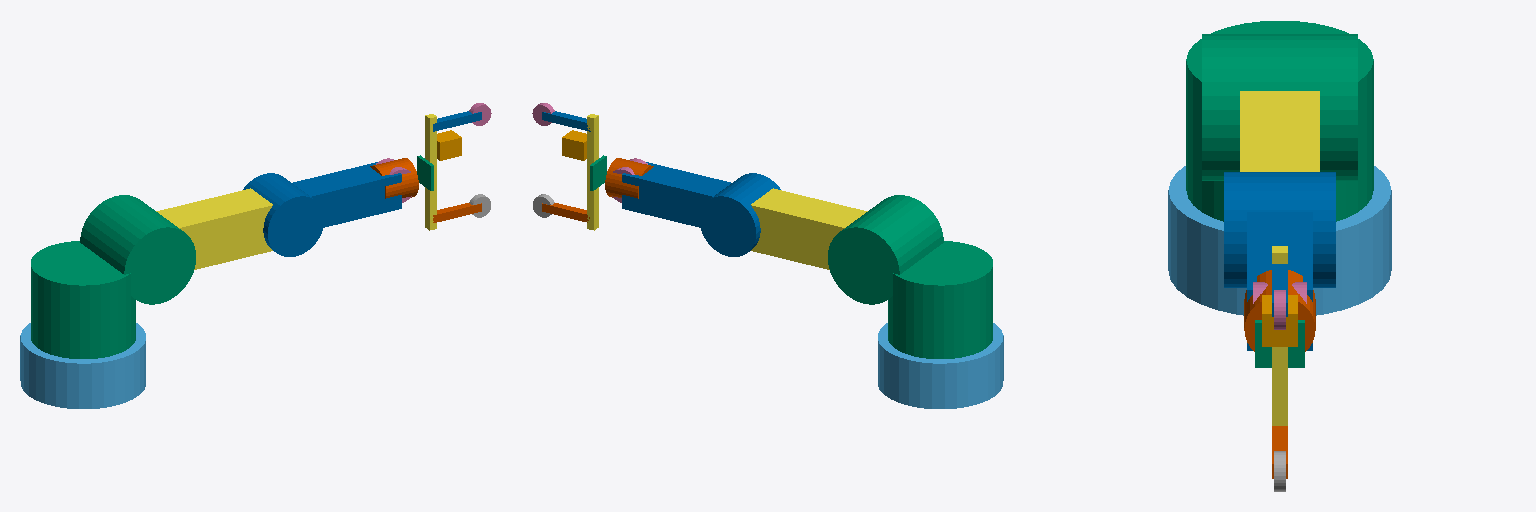
robot.urdf — kr500_r2830_mt:
<?xml version="1.0"?>
<robot name="kr500_r2830_mt" xmlns:tesseract="https://github.com/tesseract-robotics/tesseract" tesseract:make_convex="true">
  <link name="world"/>
  <joint name="world-base" type="fixed"><parent link="world"/><child link="base_link"/><origin xyz="0 0 0" rpy="0 0 0"/></joint>
  <link name="base_link"><collision><origin xyz="0 0 0.20" rpy="0 0 0"/><geometry><cylinder radius="0.5" length="0.4"/></geometry></collision><visual><origin xyz="0 0 0.20" rpy="0 0 0"/><geometry><cylinder radius="0.5" length="0.4"/></geometry></visual></link>
  <link name="link_1"><collision><origin xyz="0 0 -0.5225" rpy="0 0 0"/><geometry><cylinder radius="0.42" length="1.045"/></geometry></collision><visual><origin xyz="0 0 -0.5225" rpy="0 0 0"/><geometry><cylinder radius="0.42" length="1.045"/></geometry></visual><collision><origin xyz="0.5 0 0" rpy="1.5707963267948966 0 0"/><geometry><cylinder radius="0.33" length="0.7"/></geometry></collision><visual><origin xyz="0.5 0 0" rpy="1.5707963267948966 0 0"/><geometry><cylinder radius="0.33" length="0.7"/></geometry></visual></link>
  <link name="link_2"><collision><origin xyz="0.65 0 0" rpy="0 0 0"/><geometry><box size="1.3 0.36 0.4"/></geometry></collision><visual><origin xyz="0.65 0 0" rpy="0 0 0"/><geometry><box size="1.3 0.36 0.4"/></geometry></visual></link>
  <link name="link_3"><collision><origin xyz="0.5125 0 0.0275" rpy="0 0 0"/><geometry><box size="1.025 0.3 0.3"/></geometry></collision><visual><origin xyz="0.5125 0 0.0275" rpy="0 0 0"/><geometry><box size="1.025 0.3 0.3"/></geometry></visual><collision><origin xyz="0 0 0" rpy="1.5707963267948966 0 0"/><geometry><cylinder radius="0.26" length="0.5"/></geometry></collision><visual><origin xyz="0 0 0" rpy="1.5707963267948966 0 0"/><geometry><cylinder radius="0.26" length="0.5"/></geometry></visual></link>
  <link name="link_4"><collision><origin xyz="0 0 0" rpy="0 1.5707963267948966 0"/><geometry><cylinder radius="0.16" length="0.3"/></geometry></collision><visual><origin xyz="0 0 0" rpy="0 1.5707963267948966 0"/><geometry><cylinder radius="0.16" length="0.3"/></geometry></visual></link>
  <link name="link_5"><collision><origin xyz="0 0 0" rpy="1.5707963267948966 0 0"/><geometry><cylinder radius="0.15" length="0.24"/></geometry></collision><visual><origin xyz="0 0 0" rpy="1.5707963267948966 0 0"/><geometry><cylinder radius="0.15" length="0.24"/></geometry></visual></link>
  <link name="link_6"><collision><origin xyz="0.06 0 0" rpy="0 1.5707963267948966 0"/><geometry><cylinder radius="0.13" length="0.12"/></geometry></collision><visual><origin xyz="0.06 0 0" rpy="0 1.5707963267948966 0"/><geometry><cylinder radius="0.13" length="0.12"/></geometry></visual></link>
  <link name="flange"></link>
  <link name="tool0"></link>
  <joint name="joint_a1" type="revolute"><parent link="base_link"/><child link="link_1"/><origin xyz="0 0 1.045" rpy="0 0 0"/><axis xyz="0 0 -1"/><limit effort="0" lower="-3.228859" upper="3.228859" velocity="1.570796"/></joint>
  <joint name="joint_a2" type="revolute"><parent link="link_1"/><child link="link_2"/><origin xyz="0.5 0 0" rpy="0 0 0"/><axis xyz="0 1 0"/><limit effort="0" lower="-2.268928" upper="0.349066" velocity="1.396263"/></joint>
  <joint name="joint_a3" type="revolute"><parent link="link_2"/><child link="link_3"/><origin xyz="1.3 0 0" rpy="0 0 0"/><axis xyz="0 1 0"/><limit effort="0" lower="-1.745329" upper="2.513274" velocity="1.308997"/></joint>
  <joint name="joint_a4" type="revolute"><parent link="link_3"/><child link="link_4"/><origin xyz="1.025 0 0.055" rpy="0 0 0"/><axis xyz="-1 0 0"/><limit effort="0" lower="-6.108652" upper="6.108652" velocity="1.570796"/></joint>
  <joint name="joint_a5" type="revolute"><parent link="link_4"/><child link="link_5"/><origin xyz="0 0 0" rpy="0 0 0"/><axis xyz="0 1 0"/><limit effort="0" lower="-2.094395" upper="2.094395" velocity="1.448623"/></joint>
  <joint name="joint_a6" type="revolute"><parent link="link_5"/><child link="link_6"/><origin xyz="0 0 0" rpy="0 0 0"/><axis xyz="-1 0 0"/><limit effort="0" lower="-6.108652" upper="6.108652" velocity="2.268928"/></joint>
  <joint name="joint_a6-flange" type="fixed"><parent link="link_6"/><child link="flange"/><origin xyz="0.29 0 0" rpy="0 0 0"/></joint>
  <joint name="flange-tool0" type="fixed"><parent link="flange"/><child link="tool0"/><origin xyz="0 0 0" rpy="0 1.5707963267948966 0"/></joint>
  <link name="wiresaw_plate"><visual><origin xyz="0 0 0.015" rpy="0 0 0"/><geometry><box size="0.22 0.22 0.03"/></geometry></visual><collision><origin xyz="0 0 0.015" rpy="0 0 0"/><geometry><box size="0.22 0.22 0.03"/></geometry></collision></link>
  <joint name="tool0-wiresaw_plate" type="fixed"><parent link="tool0"/><child link="wiresaw_plate"/><origin xyz="0 0 0" rpy="0 0 0"/></joint>
  <link name="wiresaw_beam"><visual><origin xyz="0 0 0.065" rpy="0 0 0"/><geometry><box size="0.98 0.07 0.07"/></geometry></visual><collision><origin xyz="0 0 0.065" rpy="0 0 0"/><geometry><box size="0.98 0.07 0.07"/></geometry></collision></link>
  <joint name="tool0-wiresaw_beam" type="fixed"><parent link="tool0"/><child link="wiresaw_beam"/><origin xyz="0 0 0" rpy="0 0 0"/></joint>
  <link name="wiresaw_arm_a"><visual><origin xyz="-0.4 0 0.2875" rpy="0 0 0"/><geometry><box size="0.07 0.07 0.445"/></geometry></visual><collision><origin xyz="-0.4 0 0.2875" rpy="0 0 0"/><geometry><box size="0.07 0.07 0.445"/></geometry></collision></link>
  <joint name="tool0-wiresaw_arm_a" type="fixed"><parent link="tool0"/><child link="wiresaw_arm_a"/><origin xyz="0 0 0" rpy="0 0 0"/></joint>
  <link name="wiresaw_arm_b"><visual><origin xyz="0.4 0 0.2875" rpy="0 0 0"/><geometry><box size="0.07 0.07 0.445"/></geometry></visual><collision><origin xyz="0.4 0 0.2875" rpy="0 0 0"/><geometry><box size="0.07 0.07 0.445"/></geometry></collision></link>
  <joint name="tool0-wiresaw_arm_b" type="fixed"><parent link="tool0"/><child link="wiresaw_arm_b"/><origin xyz="0 0 0" rpy="0 0 0"/></joint>
  <link name="wiresaw_pulley_a"><visual><origin xyz="-0.4 0 0.51" rpy="1.5707963267948966 0 0"/><geometry><cylinder radius="0.09" length="0.05600000000000001"/></geometry></visual><collision><origin xyz="-0.4 0 0.51" rpy="1.5707963267948966 0 0"/><geometry><cylinder radius="0.09" length="0.05600000000000001"/></geometry></collision></link>
  <joint name="tool0-wiresaw_pulley_a" type="fixed"><parent link="tool0"/><child link="wiresaw_pulley_a"/><origin xyz="0 0 0" rpy="0 0 0"/></joint>
  <link name="wiresaw_pulley_b"><visual><origin xyz="0.4 0 0.51" rpy="1.5707963267948966 0 0"/><geometry><cylinder radius="0.09" length="0.05600000000000001"/></geometry></visual><collision><origin xyz="0.4 0 0.51" rpy="1.5707963267948966 0 0"/><geometry><cylinder radius="0.09" length="0.05600000000000001"/></geometry></collision></link>
  <joint name="tool0-wiresaw_pulley_b" type="fixed"><parent link="tool0"/><child link="wiresaw_pulley_b"/><origin xyz="0 0 0" rpy="0 0 0"/></joint>
  <link name="wiresaw_motor"><visual><origin xyz="-0.2 0 0.2" rpy="0 0 0"/><geometry><box size="0.16 0.16 0.2"/></geometry></visual><collision><origin xyz="-0.2 0 0.2" rpy="0 0 0"/><geometry><box size="0.16 0.16 0.2"/></geometry></collision></link>
  <joint name="tool0-wiresaw_motor" type="fixed"><parent link="tool0"/><child link="wiresaw_motor"/><origin xyz="0 0 0" rpy="0 0 0"/></joint>
</robot>

--- Render facts (derived) ---
3 views of the same robot in one strip: view 1: azimuth 30°, elevation 25°; view 2: azimuth 150°, elevation 25°; view 3: azimuth 270°, elevation 25° (orthographic).
Model kr500_r2830_mt with 17 links and 16 joints (6 revolute, 10 fixed), rooted at world, posed every joint at zero.
Links seen in each view (by area): view 1: link_1, link_3, base_link, link_2, wiresaw_beam, link_4, wiresaw_motor, wiresaw_arm_a, wiresaw_arm_b; view 2: link_1, link_3, base_link, link_2, wiresaw_beam, link_4, wiresaw_motor; view 3: link_1, base_link, link_3, link_2, link_4, wiresaw_beam, wiresaw_motor, wiresaw_plate.
Link boxes in pixels (x1,y1,x2,y2): link_1: (31,195,195,358); link_3: (243,162,401,256); base_link: (20,323,145,408); link_2: (156,188,272,269); wiresaw_beam: (425,114,436,230); link_4: (370,158,418,198); wiresaw_motor: (437,130,461,160); wiresaw_arm_a: (433,111,481,131); wiresaw_arm_b: (433,203,481,222); link_1: (828,195,992,358); link_3: (622,162,780,256); base_link: (878,323,1003,408); link_2: (751,188,867,269); wiresaw_beam: (587,114,598,230); link_4: (605,158,653,198); wiresaw_motor: (562,130,586,160); link_1: (1186,21,1373,221); base_link: (1168,166,1391,315); link_3: (1224,172,1335,350); link_2: (1240,91,1319,171); link_4: (1244,270,1315,351); wiresaw_beam: (1272,246,1287,425); wiresaw_motor: (1262,295,1297,346); wiresaw_plate: (1255,320,1304,367).
Size in the robot's own frame: 4.21 by 1 by 1.59 metres.
Geometry: primitives only (box / cylinder / sphere), no mesh files.
